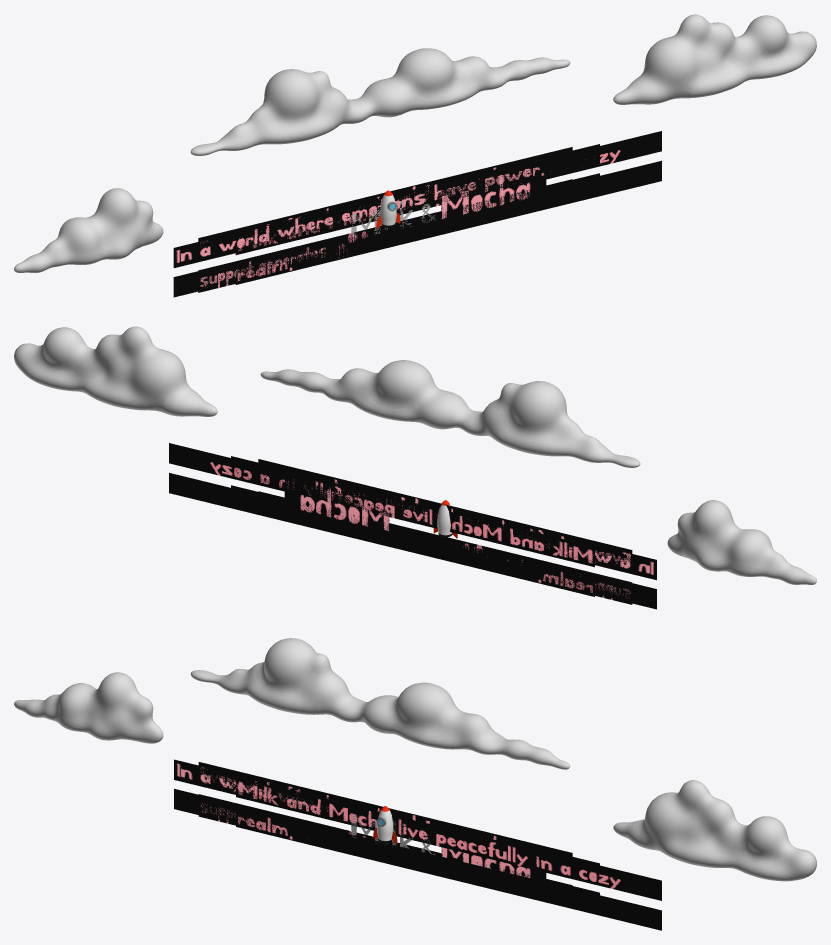
Rendered from common.glb.
3 views of the same model, one above another, from view 1: azimuth 30°, elevation 25°; view 2: azimuth 150°, elevation 25°; view 3: azimuth 330°, elevation 25° (orthographic).
Visible parts, largest first — view 1: Cube, Wave_Right, Plane.001, Plane.002, Wave_Left, Plane.004, Plane.006, Plane.003, Imaging, Plane.005; view 2: Cube, Wave_Right, Plane.003, Plane.004, Plane.002, Wave_Left, Plane.005, Plane.006, Imaging, Plane.001; view 3: Cube, Wave_Right, Plane.004, Plane.003, Wave_Left, Plane.005, Plane.002, Plane.001, Plane.006, Imaging.
Boxes of the visible parts, box(x1,y1,x2,y2) form: Cube: box(190, 48, 570, 155); Wave_Right: box(613, 14, 816, 104); Plane.001: box(173, 144, 599, 267); Plane.002: box(173, 173, 599, 297); Wave_Left: box(14, 188, 163, 272); Plane.004: box(235, 160, 661, 284); Plane.006: box(198, 179, 572, 292); Plane.003: box(235, 131, 661, 254); Imaging: box(441, 166, 546, 220); Plane.005: box(198, 147, 572, 248); Cube: box(260, 360, 640, 467); Wave_Right: box(14, 326, 217, 416); Plane.003: box(169, 443, 594, 567); Plane.004: box(169, 473, 594, 596); Plane.002: box(231, 485, 656, 609); Wave_Left: box(667, 500, 816, 584); Plane.005: box(258, 459, 632, 570); Plane.006: box(258, 491, 632, 604); Imaging: box(284, 477, 389, 532); Plane.001: box(231, 456, 656, 580); Cube: box(190, 638, 570, 769); Wave_Right: box(613, 780, 816, 881); Plane.004: box(236, 806, 661, 930); Plane.003: box(236, 777, 661, 900); Wave_Left: box(14, 672, 163, 743); Plane.005: box(198, 762, 572, 858); Plane.002: box(174, 788, 599, 895); Plane.001: box(174, 759, 599, 865); Plane.006: box(198, 794, 572, 888); Imaging: box(441, 847, 546, 881).
Size of what is drawn, in the model's own units: 6.93 by 1.65 by 0.4552.
Materials: 3 (3 with a texture image).
